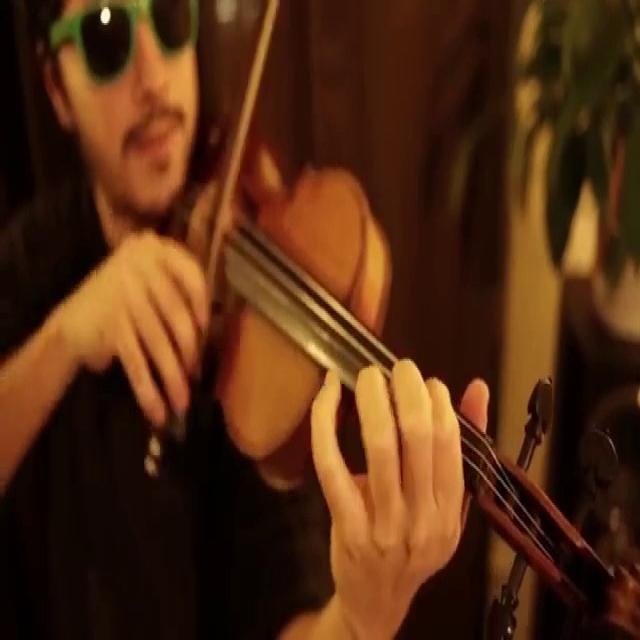Violin: (131, 125, 640, 640)
